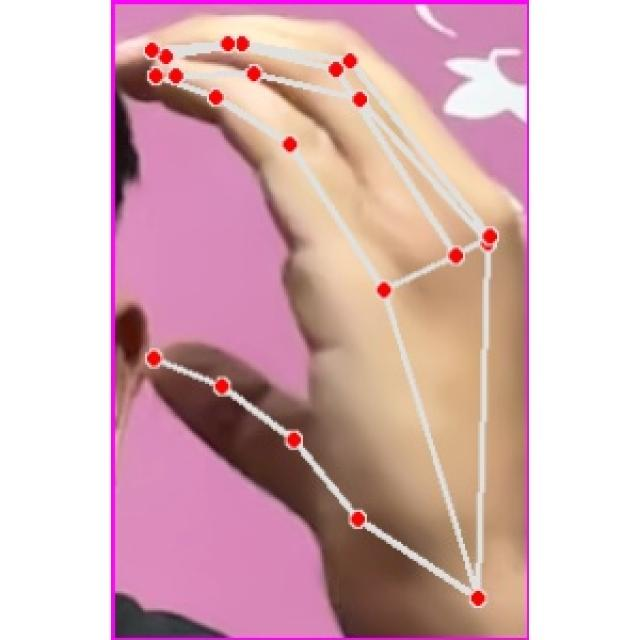C: (114, 15, 533, 640)
